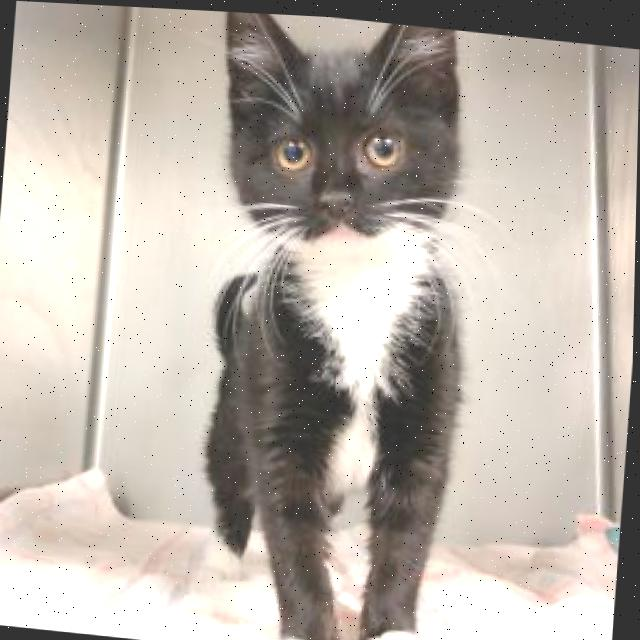Tuxedo: (183, 8, 493, 640)
